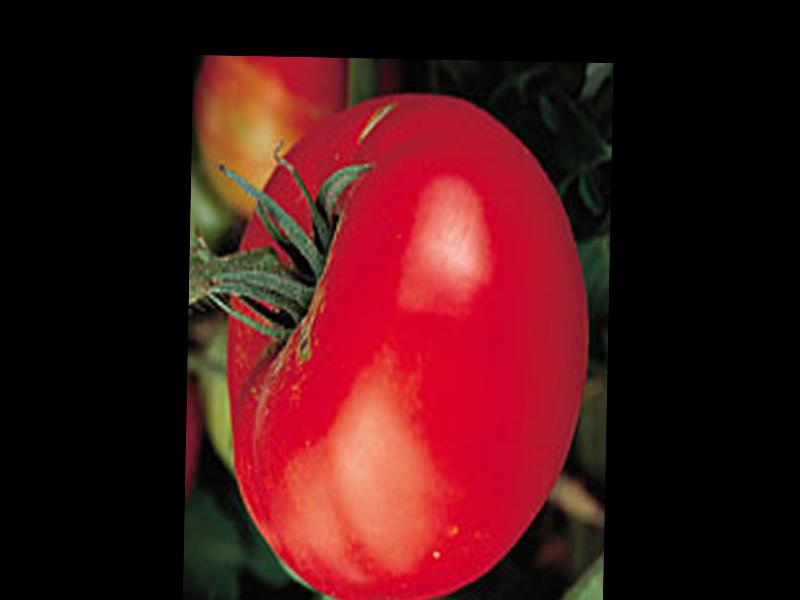Tomato: (224, 94, 593, 600)
